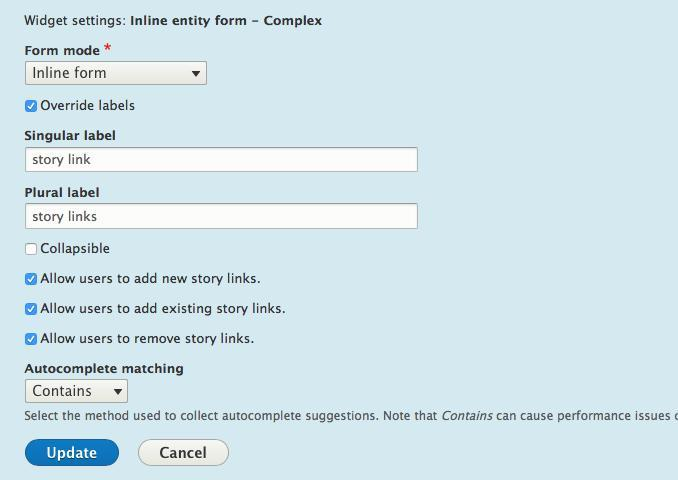button: (26, 436, 122, 469), (138, 439, 231, 468)
checkbox: (26, 330, 42, 350), (25, 303, 39, 320), (24, 101, 39, 113), (26, 243, 39, 256), (26, 274, 38, 286)
dropdown: (27, 62, 210, 85), (27, 380, 130, 406)
input: (24, 202, 420, 230), (26, 149, 419, 174)
label: (39, 298, 288, 319), (40, 331, 258, 350), (42, 271, 265, 288), (24, 363, 189, 377), (22, 127, 120, 146), (42, 101, 139, 115), (39, 241, 112, 258), (21, 45, 114, 58), (26, 186, 105, 200)
